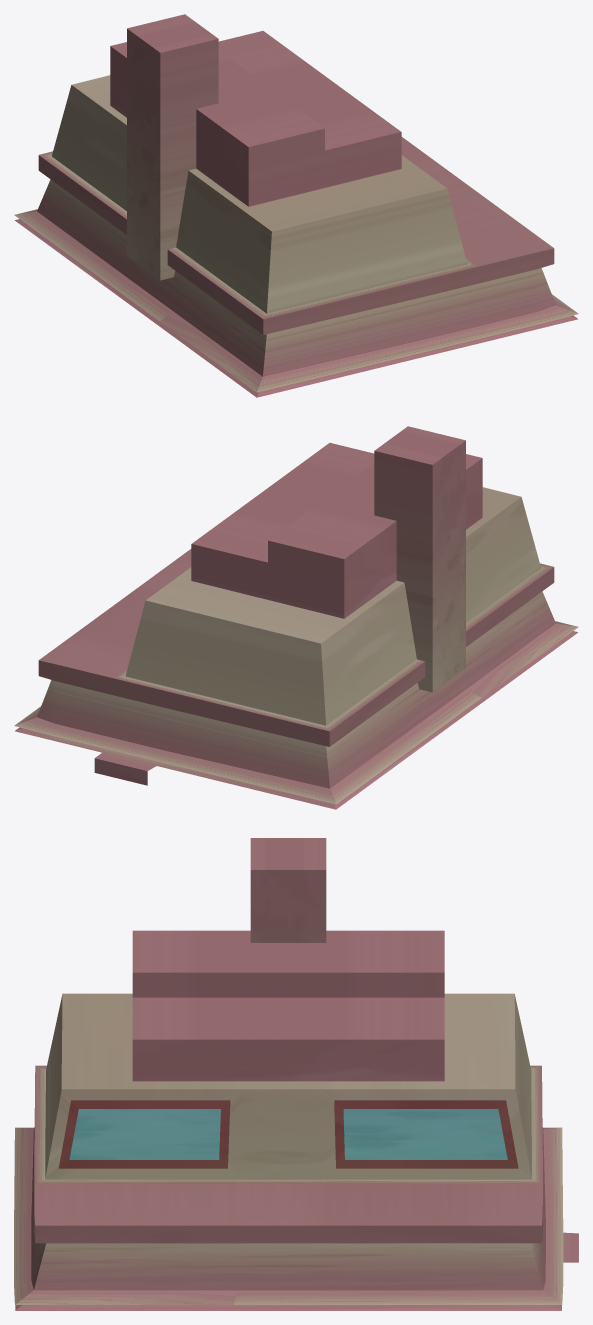
The model's file is hotel_Top.fbx.
The picture shows the model from 3 angles, top to bottom: view 1: azimuth 30°, elevation 25°; view 2: azimuth 150°, elevation 25°; view 3: azimuth 270°, elevation 25°; orthographic projection. The views are drawn at different scales.
Visible parts, largest first — view 1: polySurface28; view 2: polySurface28; view 3: polySurface28.
Boxes of the visible parts, x1,y1,x2,y2 form: polySurface28: [14, 14, 578, 397]; polySurface28: [14, 426, 578, 809]; polySurface28: [14, 838, 578, 1310].
Bounding box in the file's own units: 2154 × 1795 × 2901.
